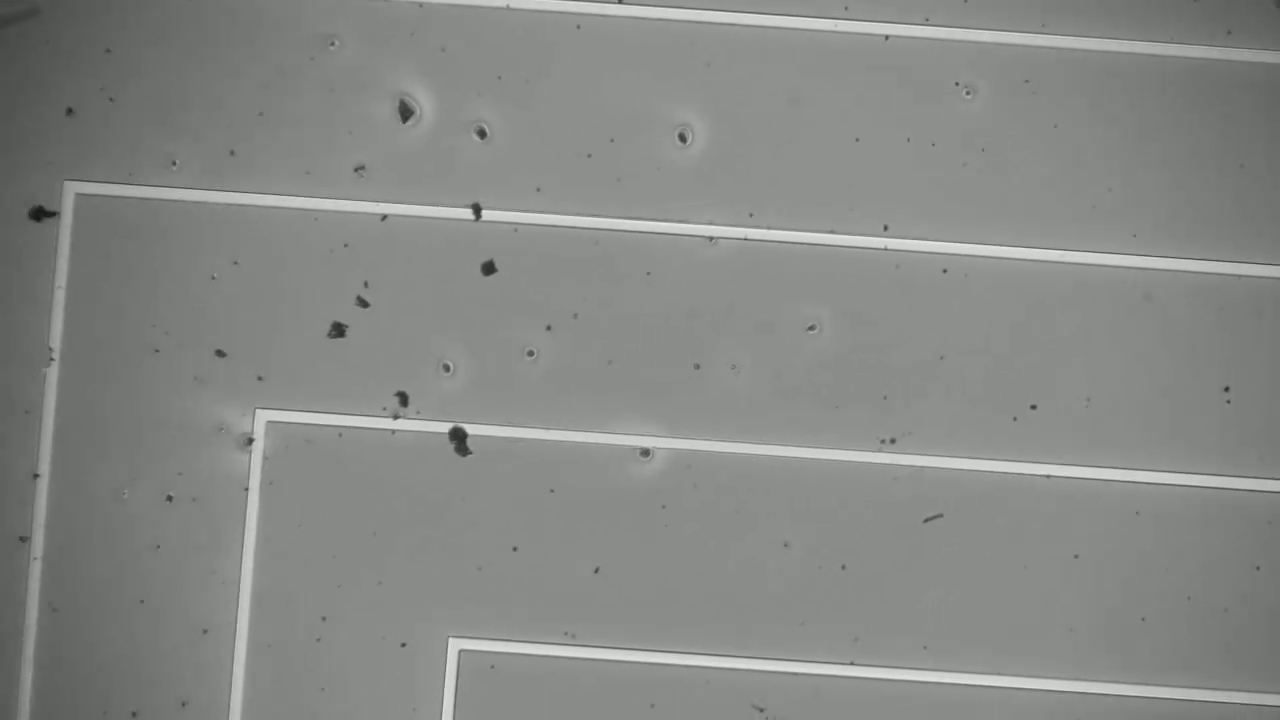edge_bite: (36, 338, 75, 380)
stains_enbedded: (443, 416, 488, 471), (463, 192, 488, 225)
